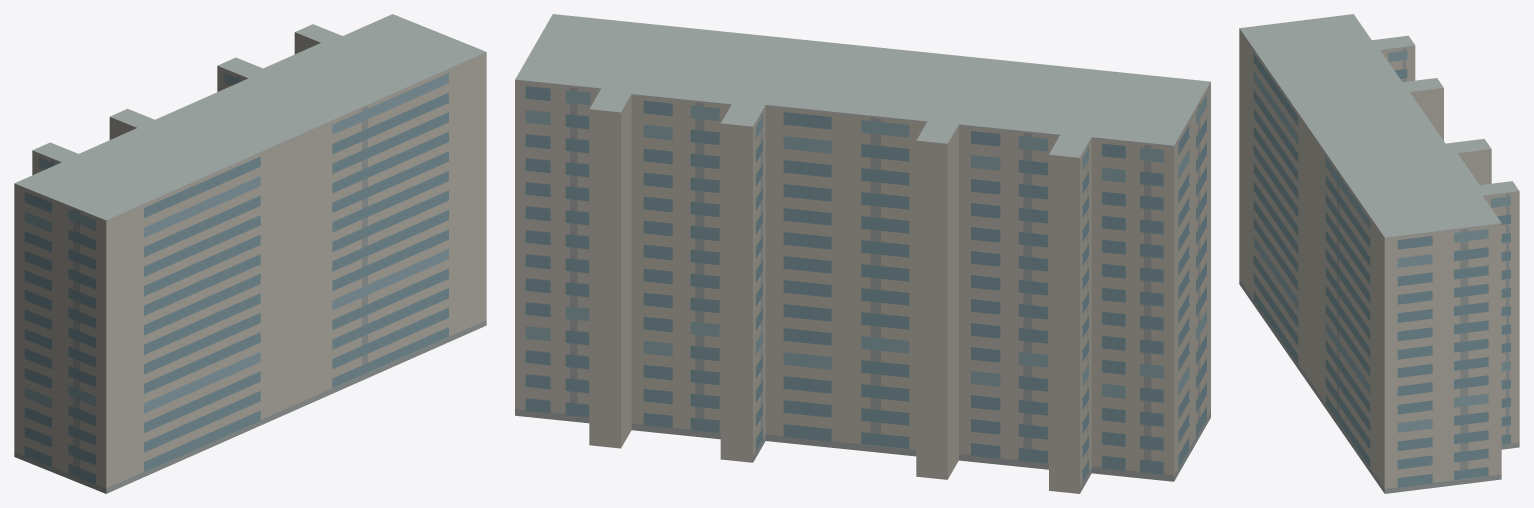
Rendered from residential-451c5859-4bc9-4ffe-8043-480a6f786743.glb.
3 renders of one model, left to right at view 1: azimuth 30°, elevation 25°; view 2: azimuth 150°, elevation 25°; view 3: azimuth 270°, elevation 25°, orthographic. The views are drawn at different scales.
Visible parts, largest first — view 1: residential-451c5859-4bc9-4ffe-8043-480a6f786743.tmp; view 2: residential-451c5859-4bc9-4ffe-8043-480a6f786743.tmp; view 3: residential-451c5859-4bc9-4ffe-8043-480a6f786743.tmp.
Part boxes in pixels (x1=…): residential-451c5859-4bc9-4ffe-8043-480a6f786743.tmp: x1=14, y1=14, x2=486, y2=493; residential-451c5859-4bc9-4ffe-8043-480a6f786743.tmp: x1=515, y1=14, x2=1210, y2=493; residential-451c5859-4bc9-4ffe-8043-480a6f786743.tmp: x1=1239, y1=14, x2=1519, y2=493.
Bounding box in the file's own units: 74.85 × 40 × 39.61.
